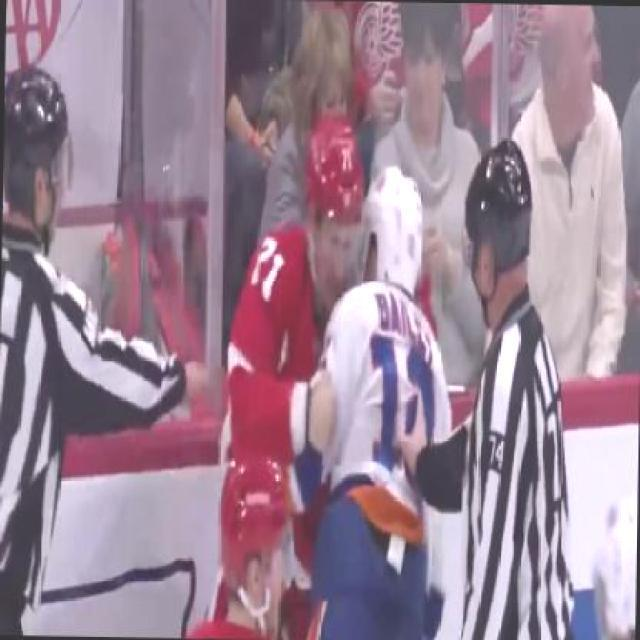fight: (218, 104, 462, 638)
